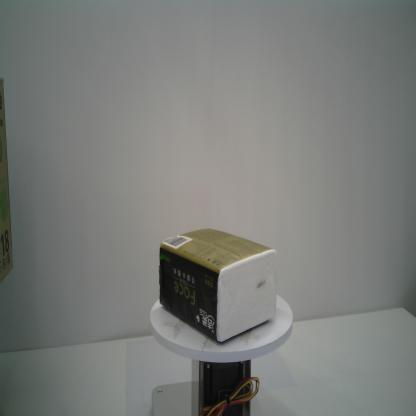Tissue: (157, 227, 278, 344)
